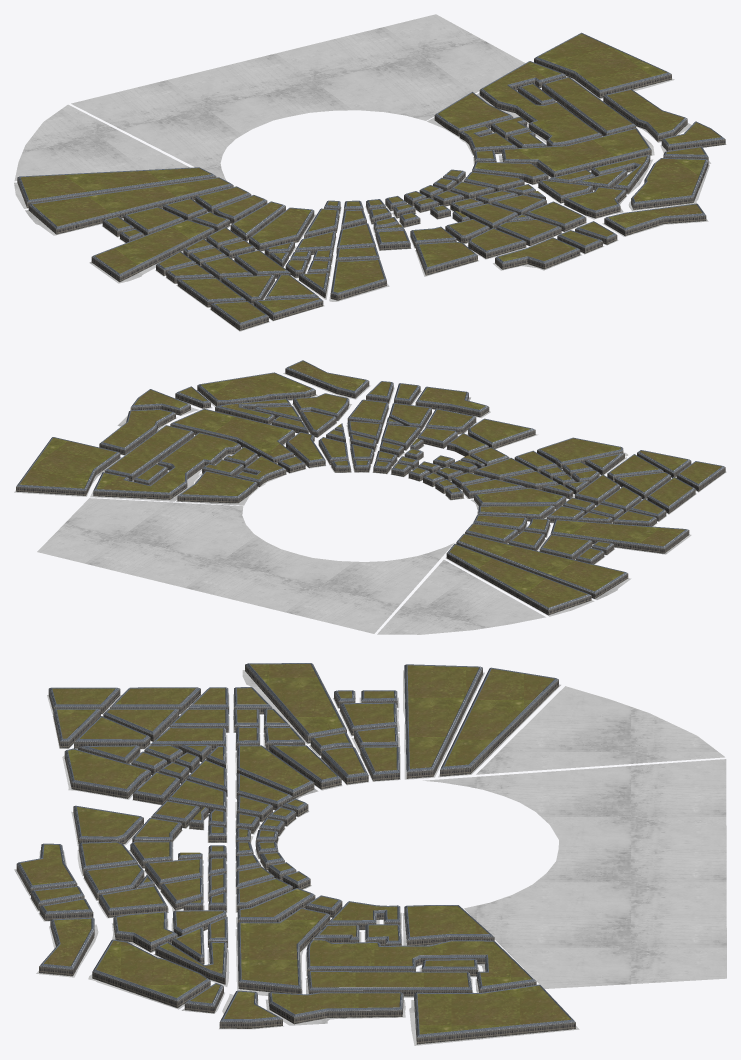
The model's file is commercials.glb.
The picture shows the model from 3 angles, top to bottom: view 1: azimuth 30°, elevation 25°; view 2: azimuth 150°, elevation 25°; view 3: azimuth 270°, elevation 25°; orthographic projection. The views are drawn at different scales.
Parts seen in each view (by area): view 1: ground_commercials_81, ground_commercials_82, roofTop_commercials_93_001_003, roofTop_commercials_49_001_003, roofTop_commercials_76_001_003, roofTop_commercials_48_001_003, roofTop_commercials_68_001_003, roofTop_commercials_53_001_003, roofTop_commercials_83_001_003, roofTop_commercials_78_001_003, roofTop_commercials_92_001_003, roofTop_commercials_79_001_003 (+31 smaller); view 2: ground_commercials_81, ground_commercials_82, roofTop_commercials_93_001_003, roofTop_commercials_49_001_003, roofTop_commercials_76_001_003, roofTop_commercials_48_001_003, roofTop_commercials_68_001_003, roofTop_commercials_53_001_003, roofTop_commercials_83_001_003, roofTop_commercials_78_001_003, roofTop_commercials_92_001_003, roofTop_commercials_79_001_003 (+31 smaller); view 3: ground_commercials_81, ground_commercials_82, roofTop_commercials_93_001_003, roofTop_commercials_49_001_003, roofTop_commercials_76_001_003, roofTop_commercials_48_001_003, roofTop_commercials_68_001_003, roofTop_commercials_53_001_003, roofTop_commercials_83_001_003, roofTop_commercials_78_001_003, roofTop_commercials_92_001_003, roofTop_commercials_79_001_003 (+40 smaller).
Boxes of the visible parts, bbox=[...] form: ground_commercials_81: bbox=[71, 14, 525, 180]; ground_commercials_82: bbox=[14, 104, 189, 180]; roofTop_commercials_93_001_003: bbox=[538, 33, 666, 89]; roofTop_commercials_49_001_003: bbox=[32, 178, 228, 226]; roofTop_commercials_76_001_003: bbox=[483, 62, 597, 142]; roofTop_commercials_48_001_003: bbox=[20, 168, 210, 199]; roofTop_commercials_68_001_003: bbox=[505, 129, 648, 171]; roofTop_commercials_53_001_003: bbox=[95, 220, 210, 273]; roofTop_commercials_83_001_003: bbox=[633, 158, 705, 201]; roofTop_commercials_78_001_003: bbox=[546, 77, 631, 130]; roofTop_commercials_92_001_003: bbox=[607, 90, 683, 133]; roofTop_commercials_79_001_003: bbox=[438, 93, 508, 128]; ground_commercials_81: bbox=[37, 498, 453, 633]; ground_commercials_82: bbox=[377, 560, 545, 634]; roofTop_commercials_93_001_003: bbox=[19, 437, 116, 488]; roofTop_commercials_49_001_003: bbox=[459, 534, 624, 591]; roofTop_commercials_76_001_003: bbox=[96, 433, 237, 492]; roofTop_commercials_48_001_003: bbox=[450, 544, 587, 607]; roofTop_commercials_68_001_003: bbox=[175, 409, 290, 456]; roofTop_commercials_53_001_003: bbox=[553, 520, 684, 546]; roofTop_commercials_83_001_003: bbox=[201, 373, 311, 399]; roofTop_commercials_78_001_003: bbox=[108, 426, 189, 473]; roofTop_commercials_92_001_003: bbox=[103, 410, 171, 447]; roofTop_commercials_79_001_003: bbox=[182, 471, 253, 495]; ground_commercials_81: bbox=[423, 759, 726, 988]; ground_commercials_82: bbox=[476, 686, 724, 774]; roofTop_commercials_93_001_003: bbox=[417, 985, 570, 1034]; roofTop_commercials_49_001_003: bbox=[407, 665, 478, 768]; roofTop_commercials_76_001_003: bbox=[310, 940, 531, 985]; roofTop_commercials_48_001_003: bbox=[444, 669, 554, 766]; roofTop_commercials_68_001_003: bbox=[240, 909, 325, 985]; roofTop_commercials_53_001_003: bbox=[250, 664, 342, 733]; roofTop_commercials_83_001_003: bbox=[96, 940, 206, 997]; roofTop_commercials_78_001_003: bbox=[311, 972, 468, 987]; roofTop_commercials_92_001_003: bbox=[272, 993, 400, 1014]; roofTop_commercials_79_001_003: bbox=[407, 906, 488, 936].
Size of the model in its own units: 11.64 by 0.1282 by 9.31.
10 materials, 10 textured.
